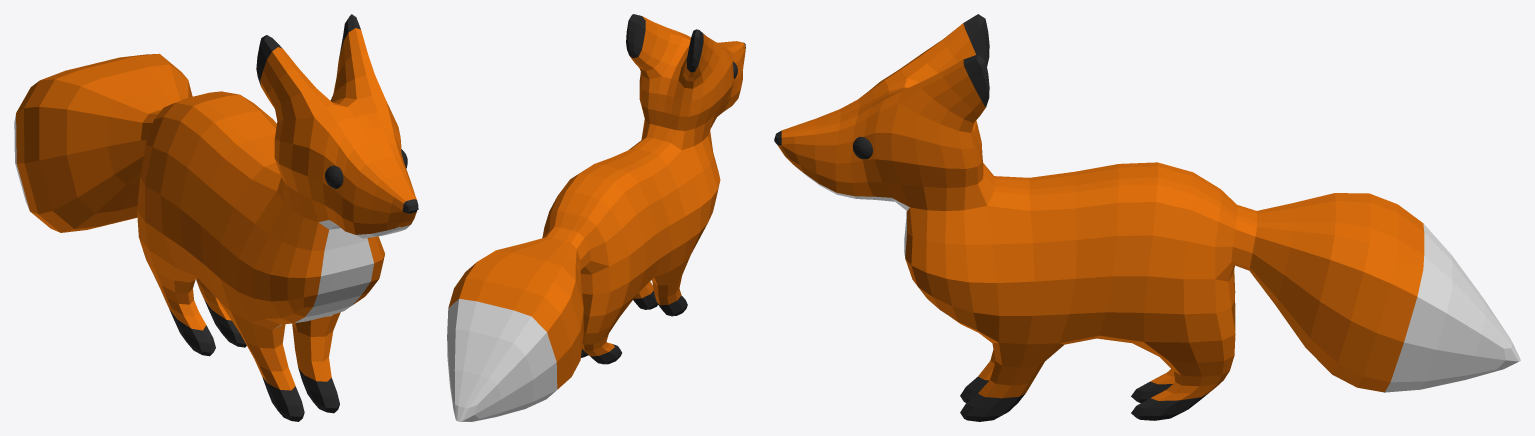
File: fox.glb
The picture shows the model from 3 angles, left to right: view 1: azimuth 30°, elevation 25°; view 2: azimuth 150°, elevation 25°; view 3: azimuth 270°, elevation 25°; orthographic projection. The views are drawn at different scales.
Visible parts, largest first — view 1: Cube; view 2: Cube; view 3: Cube.
Boxes of the visible parts, box(x1,y1,x2,y2) form: Cube: box(14, 14, 418, 421); Cube: box(447, 14, 745, 421); Cube: box(774, 14, 1520, 421).
Size of the model in its own units: 1.07 by 2.51 by 4.49.
